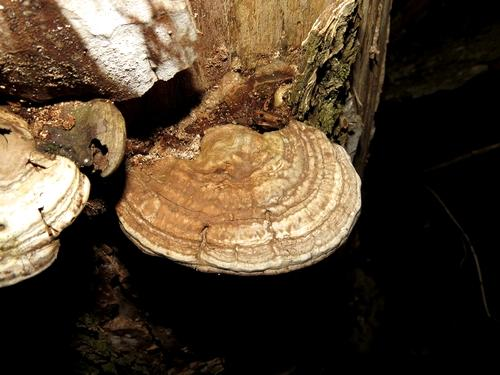Ganoderma - Fruit Body: (114, 118, 366, 282), (0, 106, 92, 286)
